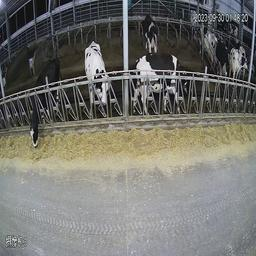cow: (142, 55, 197, 114), (29, 55, 61, 147), (84, 40, 109, 117), (200, 22, 218, 64), (141, 12, 157, 54), (231, 44, 248, 79), (188, 6, 196, 32)
